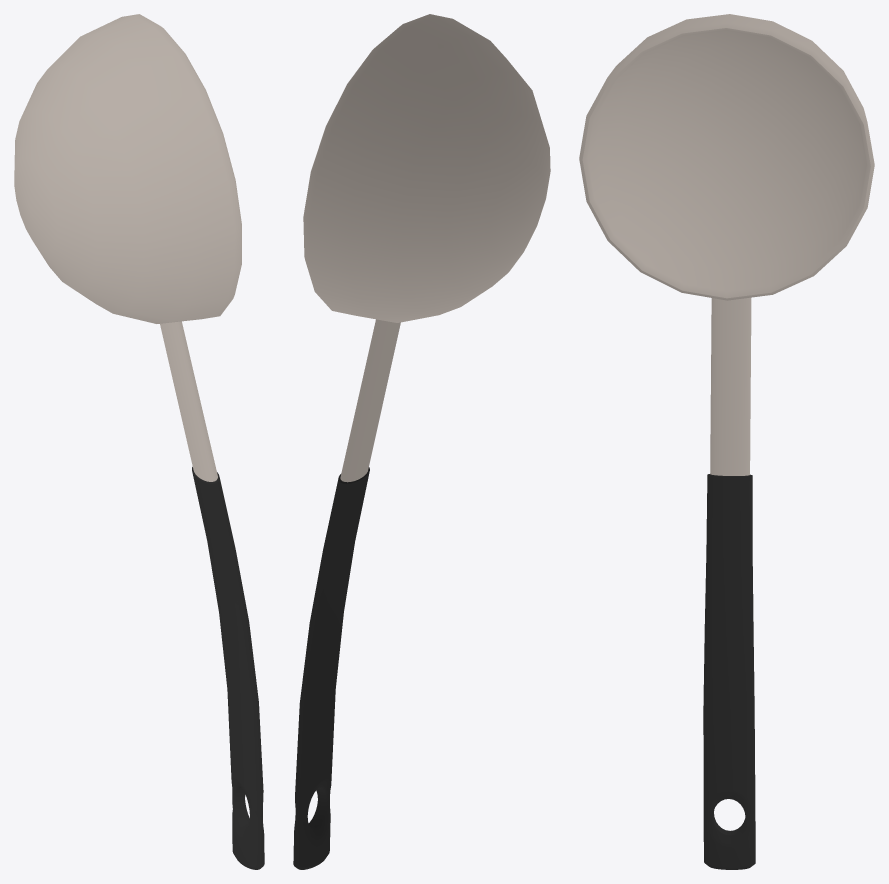
The model's file is Ladle_2b6d2008.obj.
The picture shows the model from 3 angles, left to right: view 1: azimuth 30°, elevation 25°; view 2: azimuth 150°, elevation 25°; view 3: azimuth 270°, elevation 25°; orthographic projection. The views are drawn at different scales.
Parts seen in each view (by area): view 1: Ladle_2b6d2008; view 2: Ladle_2b6d2008; view 3: Ladle_2b6d2008.
Boxes of the visible parts, left/top/right/bottom form: Ladle_2b6d2008: left=14, top=14, right=264, bottom=869; Ladle_2b6d2008: left=293, top=14, right=550, bottom=869; Ladle_2b6d2008: left=579, top=14, right=874, bottom=869.
Bounding box in the file's own units: 0.0725 × 0.2633 × 0.0879.
